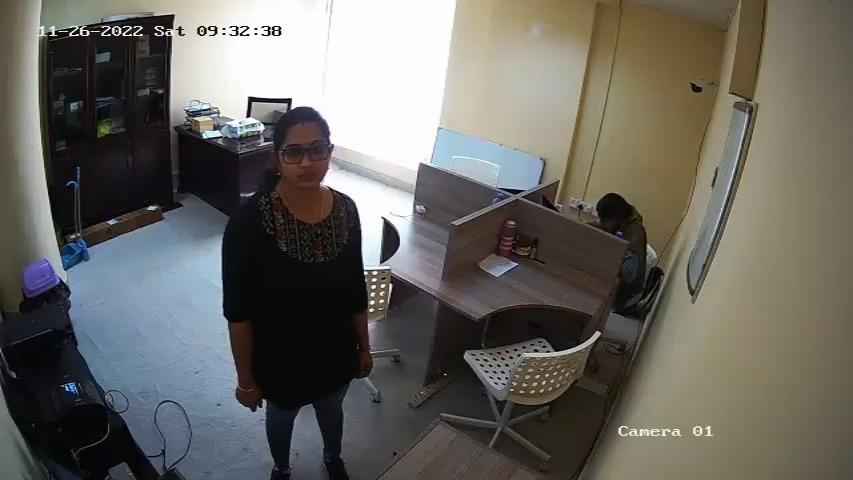no_apron: (256, 194, 354, 398)
